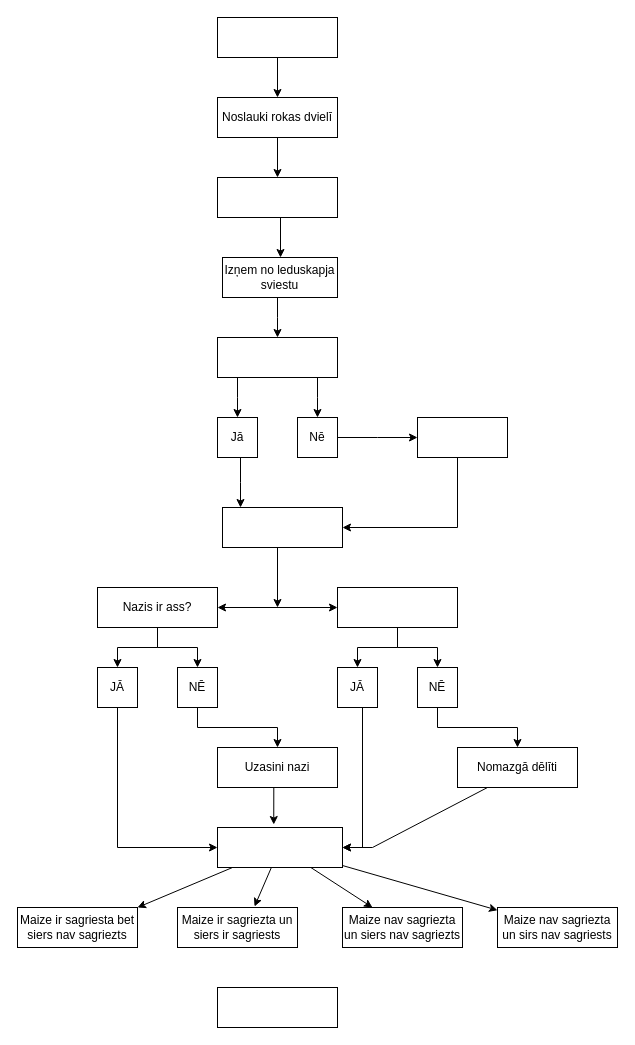
This 635x1045 diagram has some shape labels left out. Here are the shapes that lost their labels. From the top down, the centre of each, then its label:
At point (277, 37): "Nomazgā rokas".
At point (277, 197): "Atver leduskapi un izņem sieru un maizi".
At point (277, 357): "Vai sviests ir atkusis?".
At point (462, 437): "Noliec siltā vietā, lai atkūst".
At point (282, 527): "Paņem dēlīti un nazi".
At point (397, 607): "Dēlitis nomazgāts?".
At point (279, 847): "Paņem maizi un sieru".
